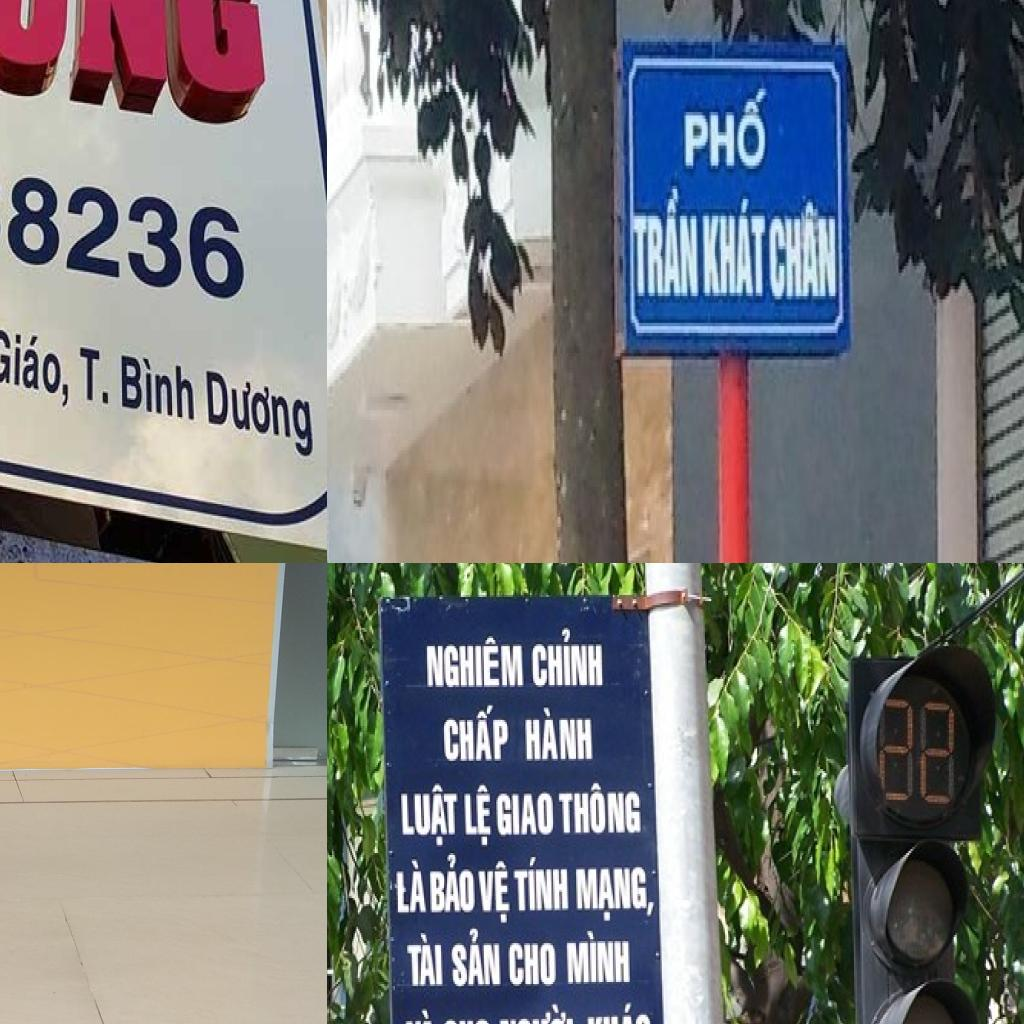text: (0, 116, 251, 307), (0, 0, 276, 147), (678, 82, 776, 186), (626, 176, 700, 306), (700, 189, 770, 310), (113, 347, 200, 427), (0, 321, 72, 416), (422, 634, 528, 693), (556, 773, 645, 841), (527, 626, 610, 693), (438, 701, 515, 769), (573, 865, 659, 925), (521, 699, 596, 767), (396, 781, 462, 849), (562, 929, 636, 988), (508, 851, 573, 918), (446, 925, 502, 990), (494, 790, 558, 842), (427, 853, 479, 916), (71, 340, 114, 415), (474, 853, 514, 929), (506, 941, 559, 988), (404, 931, 446, 990), (462, 781, 496, 851), (582, 996, 657, 1024), (395, 855, 429, 914), (497, 1000, 579, 1024), (400, 1008, 439, 1024)
